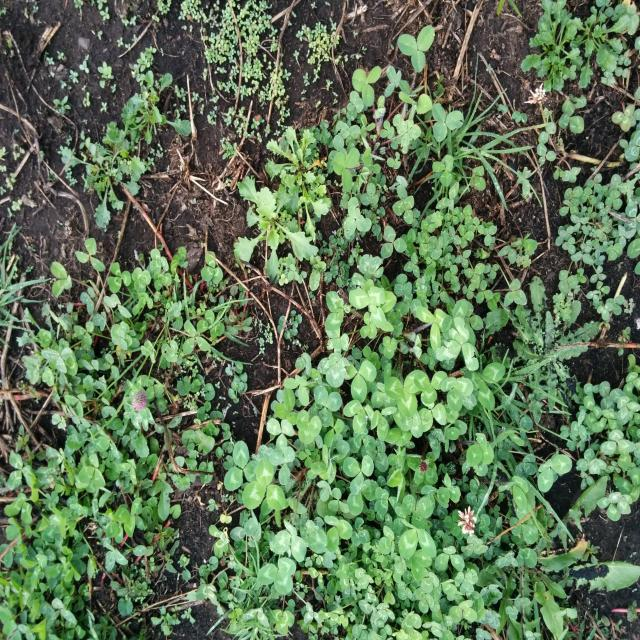Four Leaf Clover: (317, 352, 351, 388)
